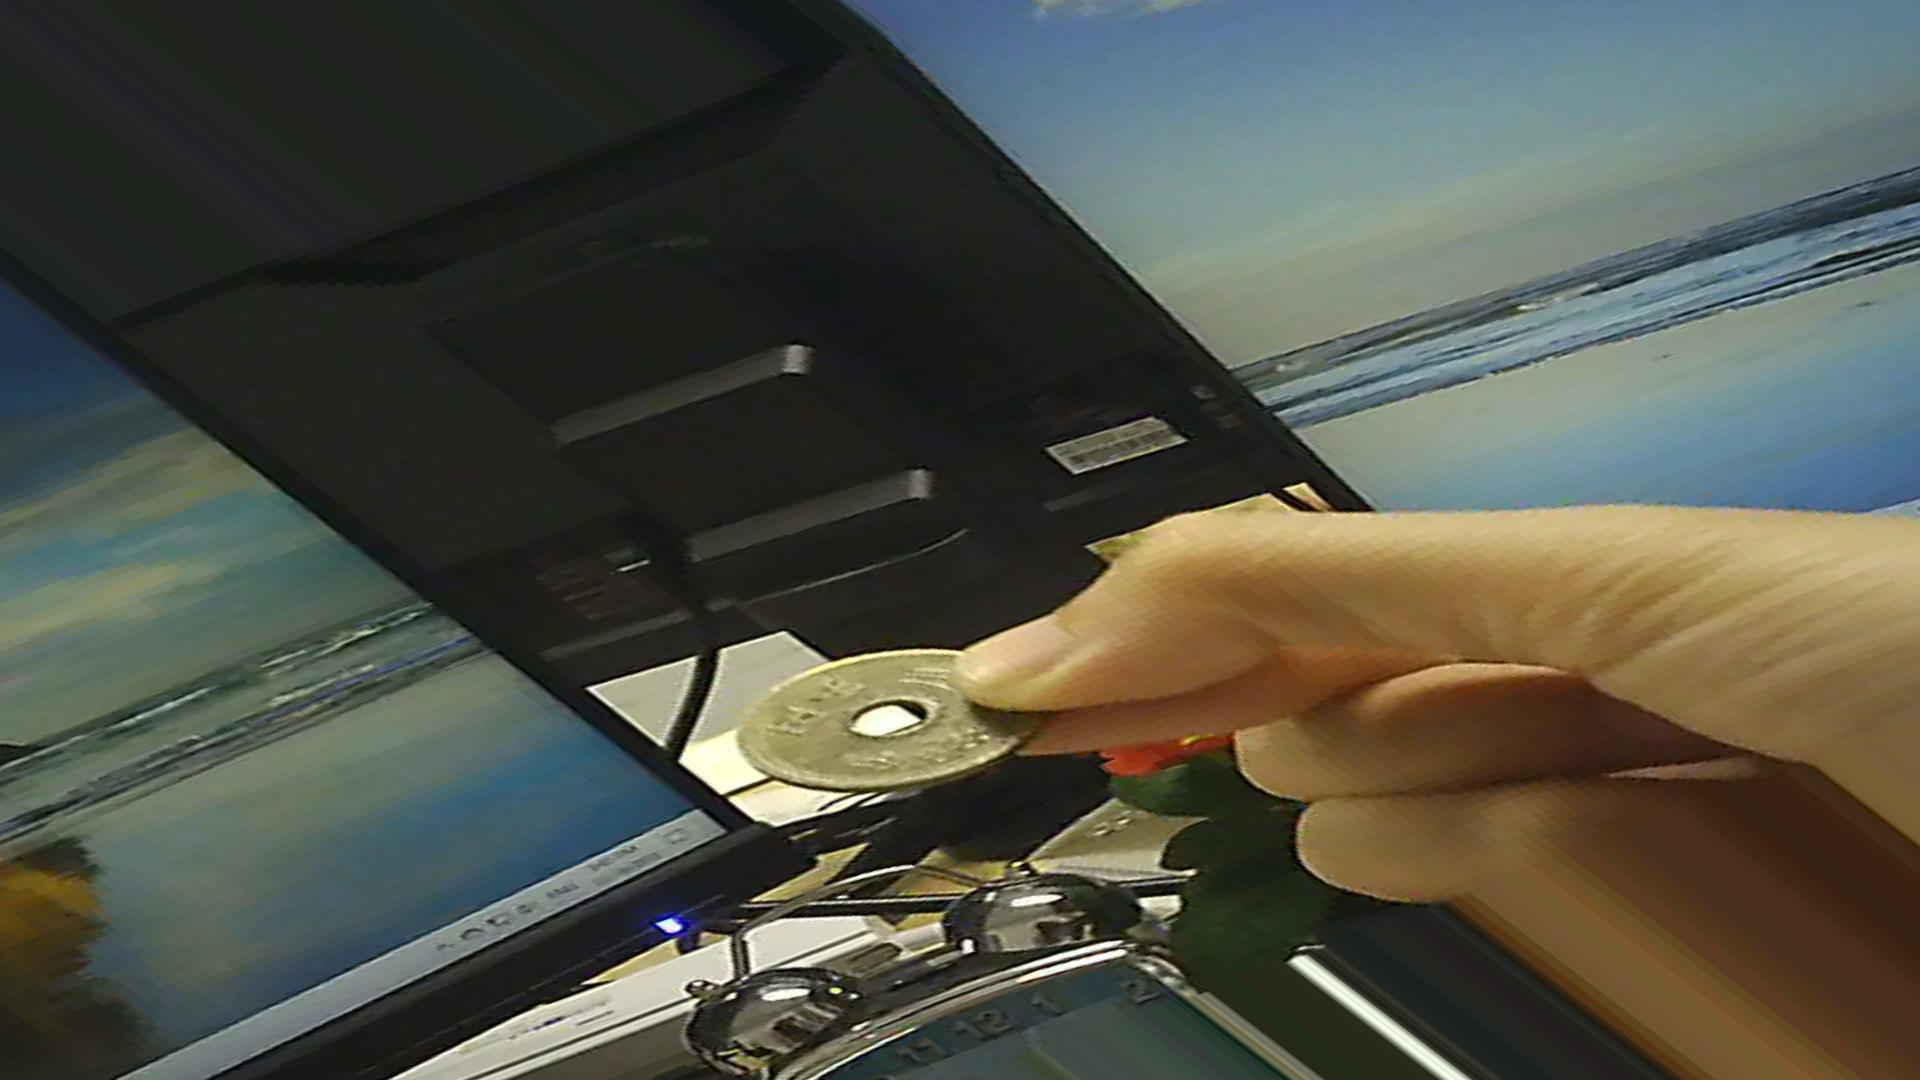5 Yen: (717, 645, 1033, 795)
